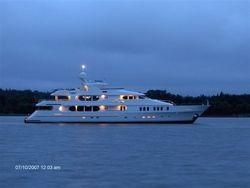yacht: (24, 63, 211, 125)
